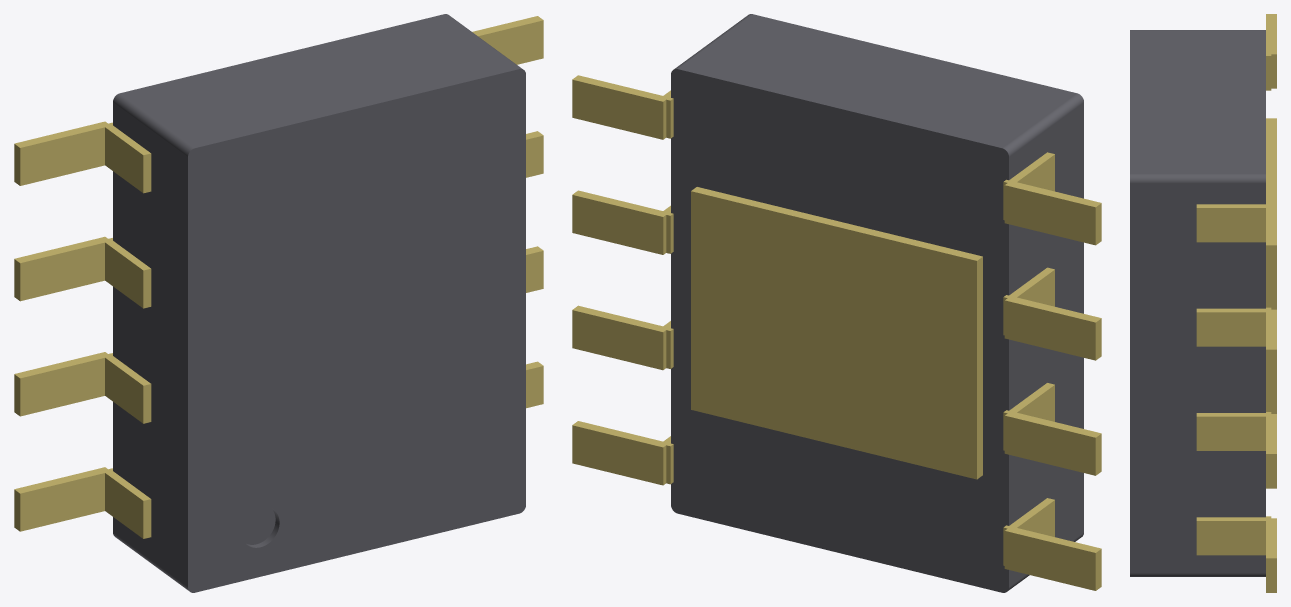
3 renders of one model, left to right at view 1: azimuth 30°, elevation 25°; view 2: azimuth 150°, elevation 25°; view 3: azimuth 270°, elevation 25°, orthographic. The views are drawn at different scales.
Parts seen in each view (by area): view 1: extra, pins; view 2: extra, pins; view 3: extra, pins.
Boxes of the visible parts, x1,y1,x2,y2 form: extra: (113, 14, 525, 592); pins: (14, 16, 543, 538); extra: (671, 14, 1083, 592); pins: (572, 75, 1101, 590); extra: (1130, 30, 1265, 576); pins: (1196, 14, 1276, 592).
Bounding box in the file's own units: 6.04 × 4.9 × 1.62.
